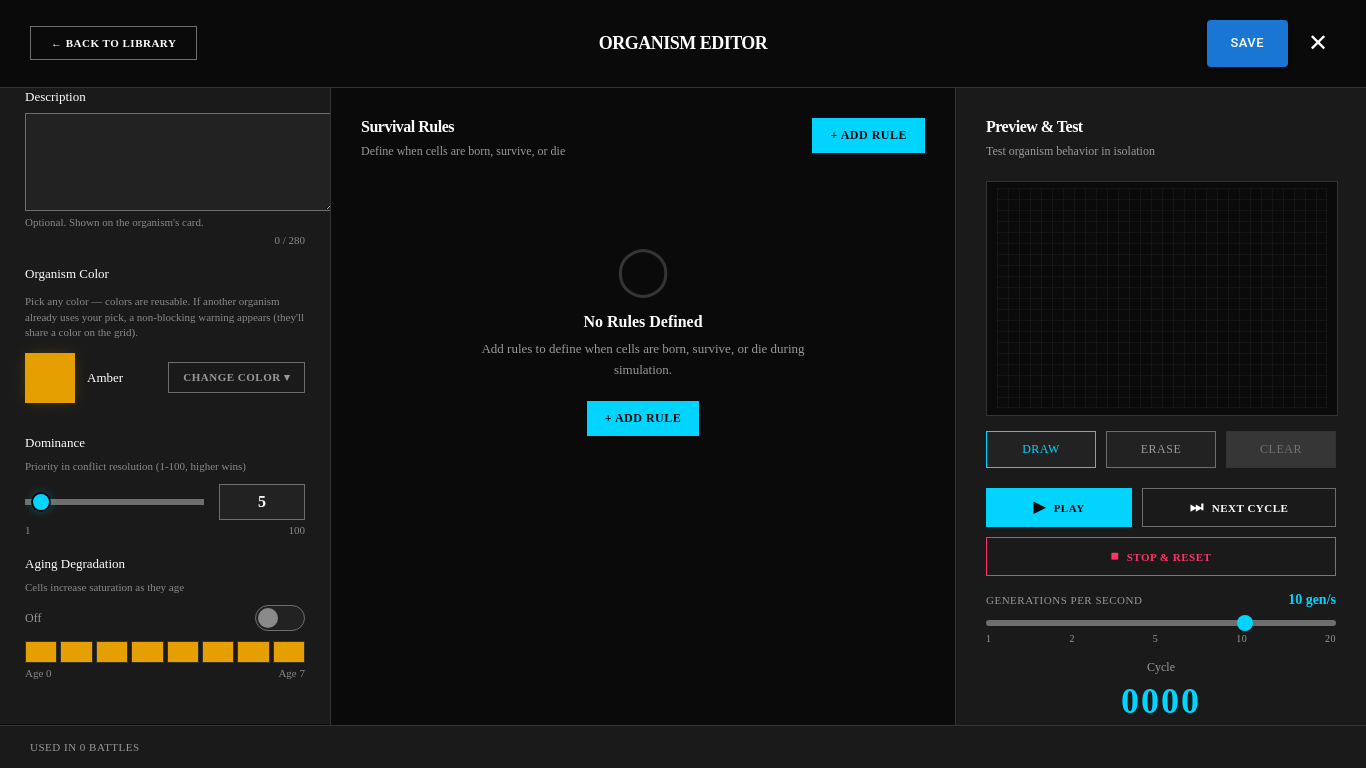
OrganismEditorModal › holds the draft: an aging toggle click round-trips through the modal (Story 4.7)
(page scrolled)
Step 1. Click the switch named "Aging Degradation" → (280, 618), box left=255, top=605, right=305, bottom=631
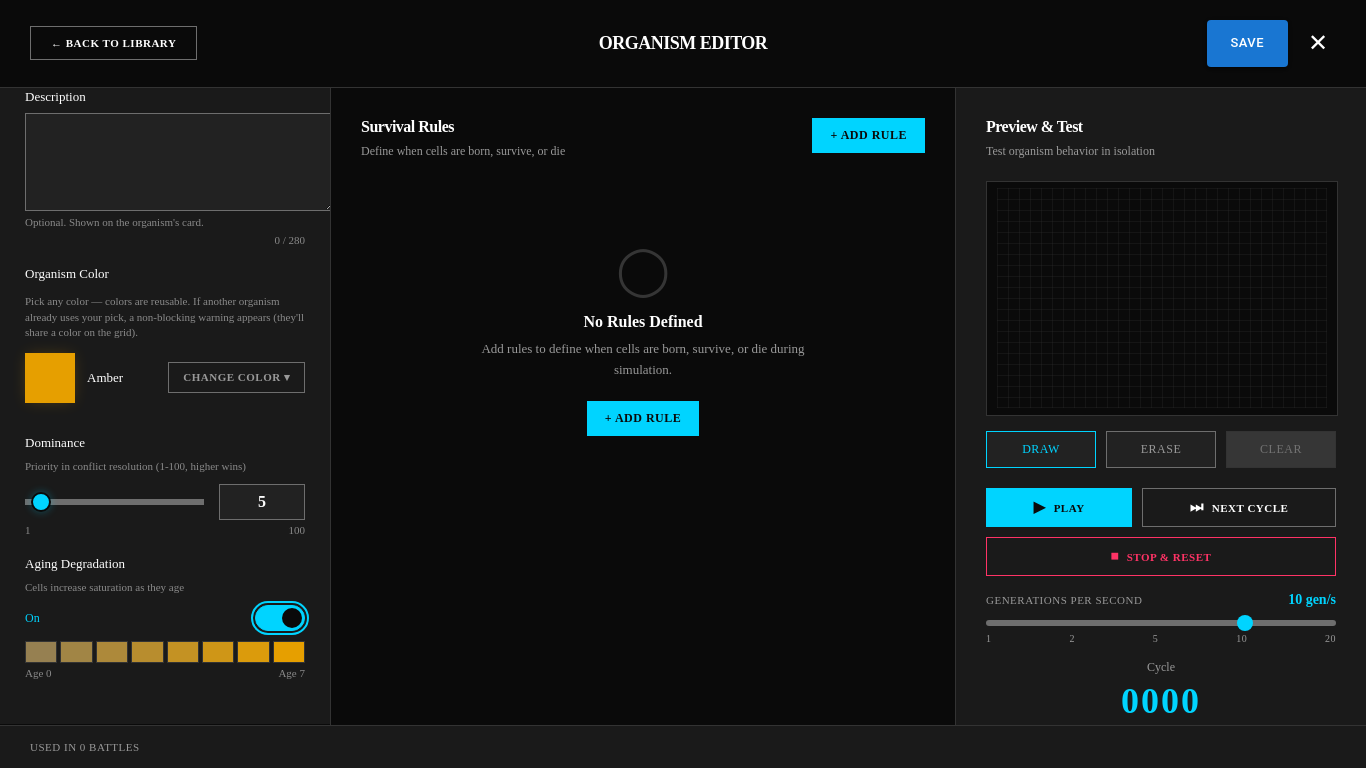
Result: the switch named "Aging Degradation" is checked at left=255, top=605, right=305, bottom=631
Result: the text "On" is shown at left=25, top=611, right=40, bottom=626
